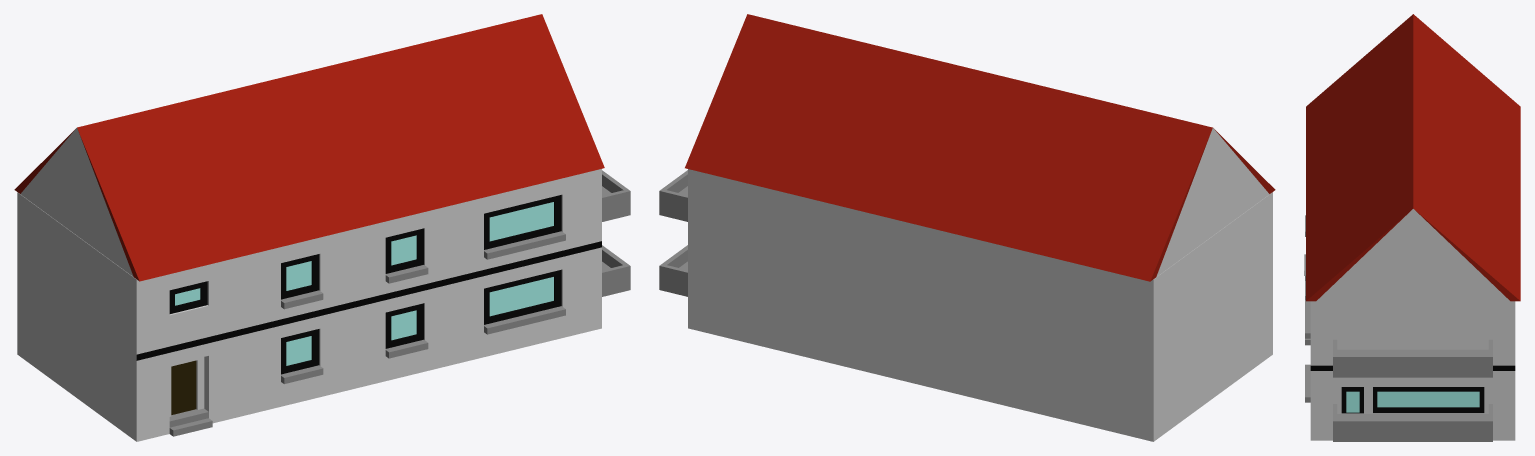
Rendered from Haus.fbx.
3 views of the same model, side by side, from view 1: azimuth 30°, elevation 25°; view 2: azimuth 150°, elevation 25°; view 3: azimuth 270°, elevation 25° (orthographic). The views are drawn at different scales.
Visible parts, largest first — view 1: House; view 2: House; view 3: House.
Boxes of the visible parts, box(x1,y1,x2,y2) form: House: box(14, 14, 630, 441); House: box(659, 14, 1275, 441); House: box(1304, 14, 1520, 441).
Size of the model in its own units: 9805 by 5003 by 4233.
